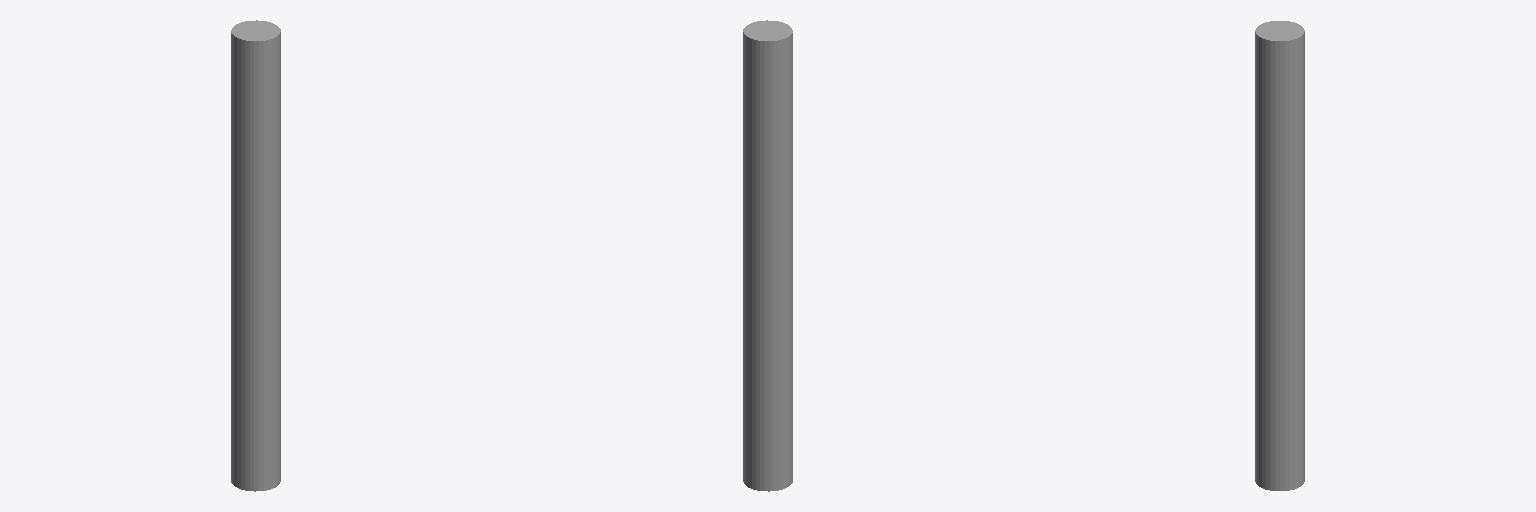
robot.urdf — cylinder_robot:
<?xml version="1.0"?>
<robot name="cylinder_robot">
    <link name="base_link">
        <visual>
            <geometry>
                <mesh filename="cylinder.stl" scale="1 1 1"/>
            </geometry>
            <material name="gray">
                <color rgba="0.7 0.7 0.7 1"/>
            </material>
        </visual>
        <inertial>
            <mass value="0"/>
            <inertia ixx="0.01" ixy="0.0" ixz="0.0" iyy="0.01" iyz="0.0" izz="0.01"/>
            <origin xyz="0 0 0"/>
        </inertial>
    </link>
</robot>

--- Render facts (derived) ---
Views: 3 orthographic renders of the robot side by side, from view 1: azimuth 30°, elevation 25°; view 2: azimuth 150°, elevation 25°; view 3: azimuth 270°, elevation 25°.
Robot: cylinder_robot — 1 links, 0 joints (none); root link base_link; default pose: all joints at 0.
Links seen in each view (by area): view 1: base_link; view 2: base_link; view 3: base_link.
Boxes of the visible links, left/top/right/bottom form: base_link: left=231, top=20, right=280, bottom=491; base_link: left=743, top=20, right=792, bottom=491; base_link: left=1255, top=21, right=1304, bottom=490.
Bounding box of the posed robot: 0.2 × 0.2 × 2 m (x, y, z).
1 mesh visuals loaded from 1 distinct referenced files (1 binary STL).